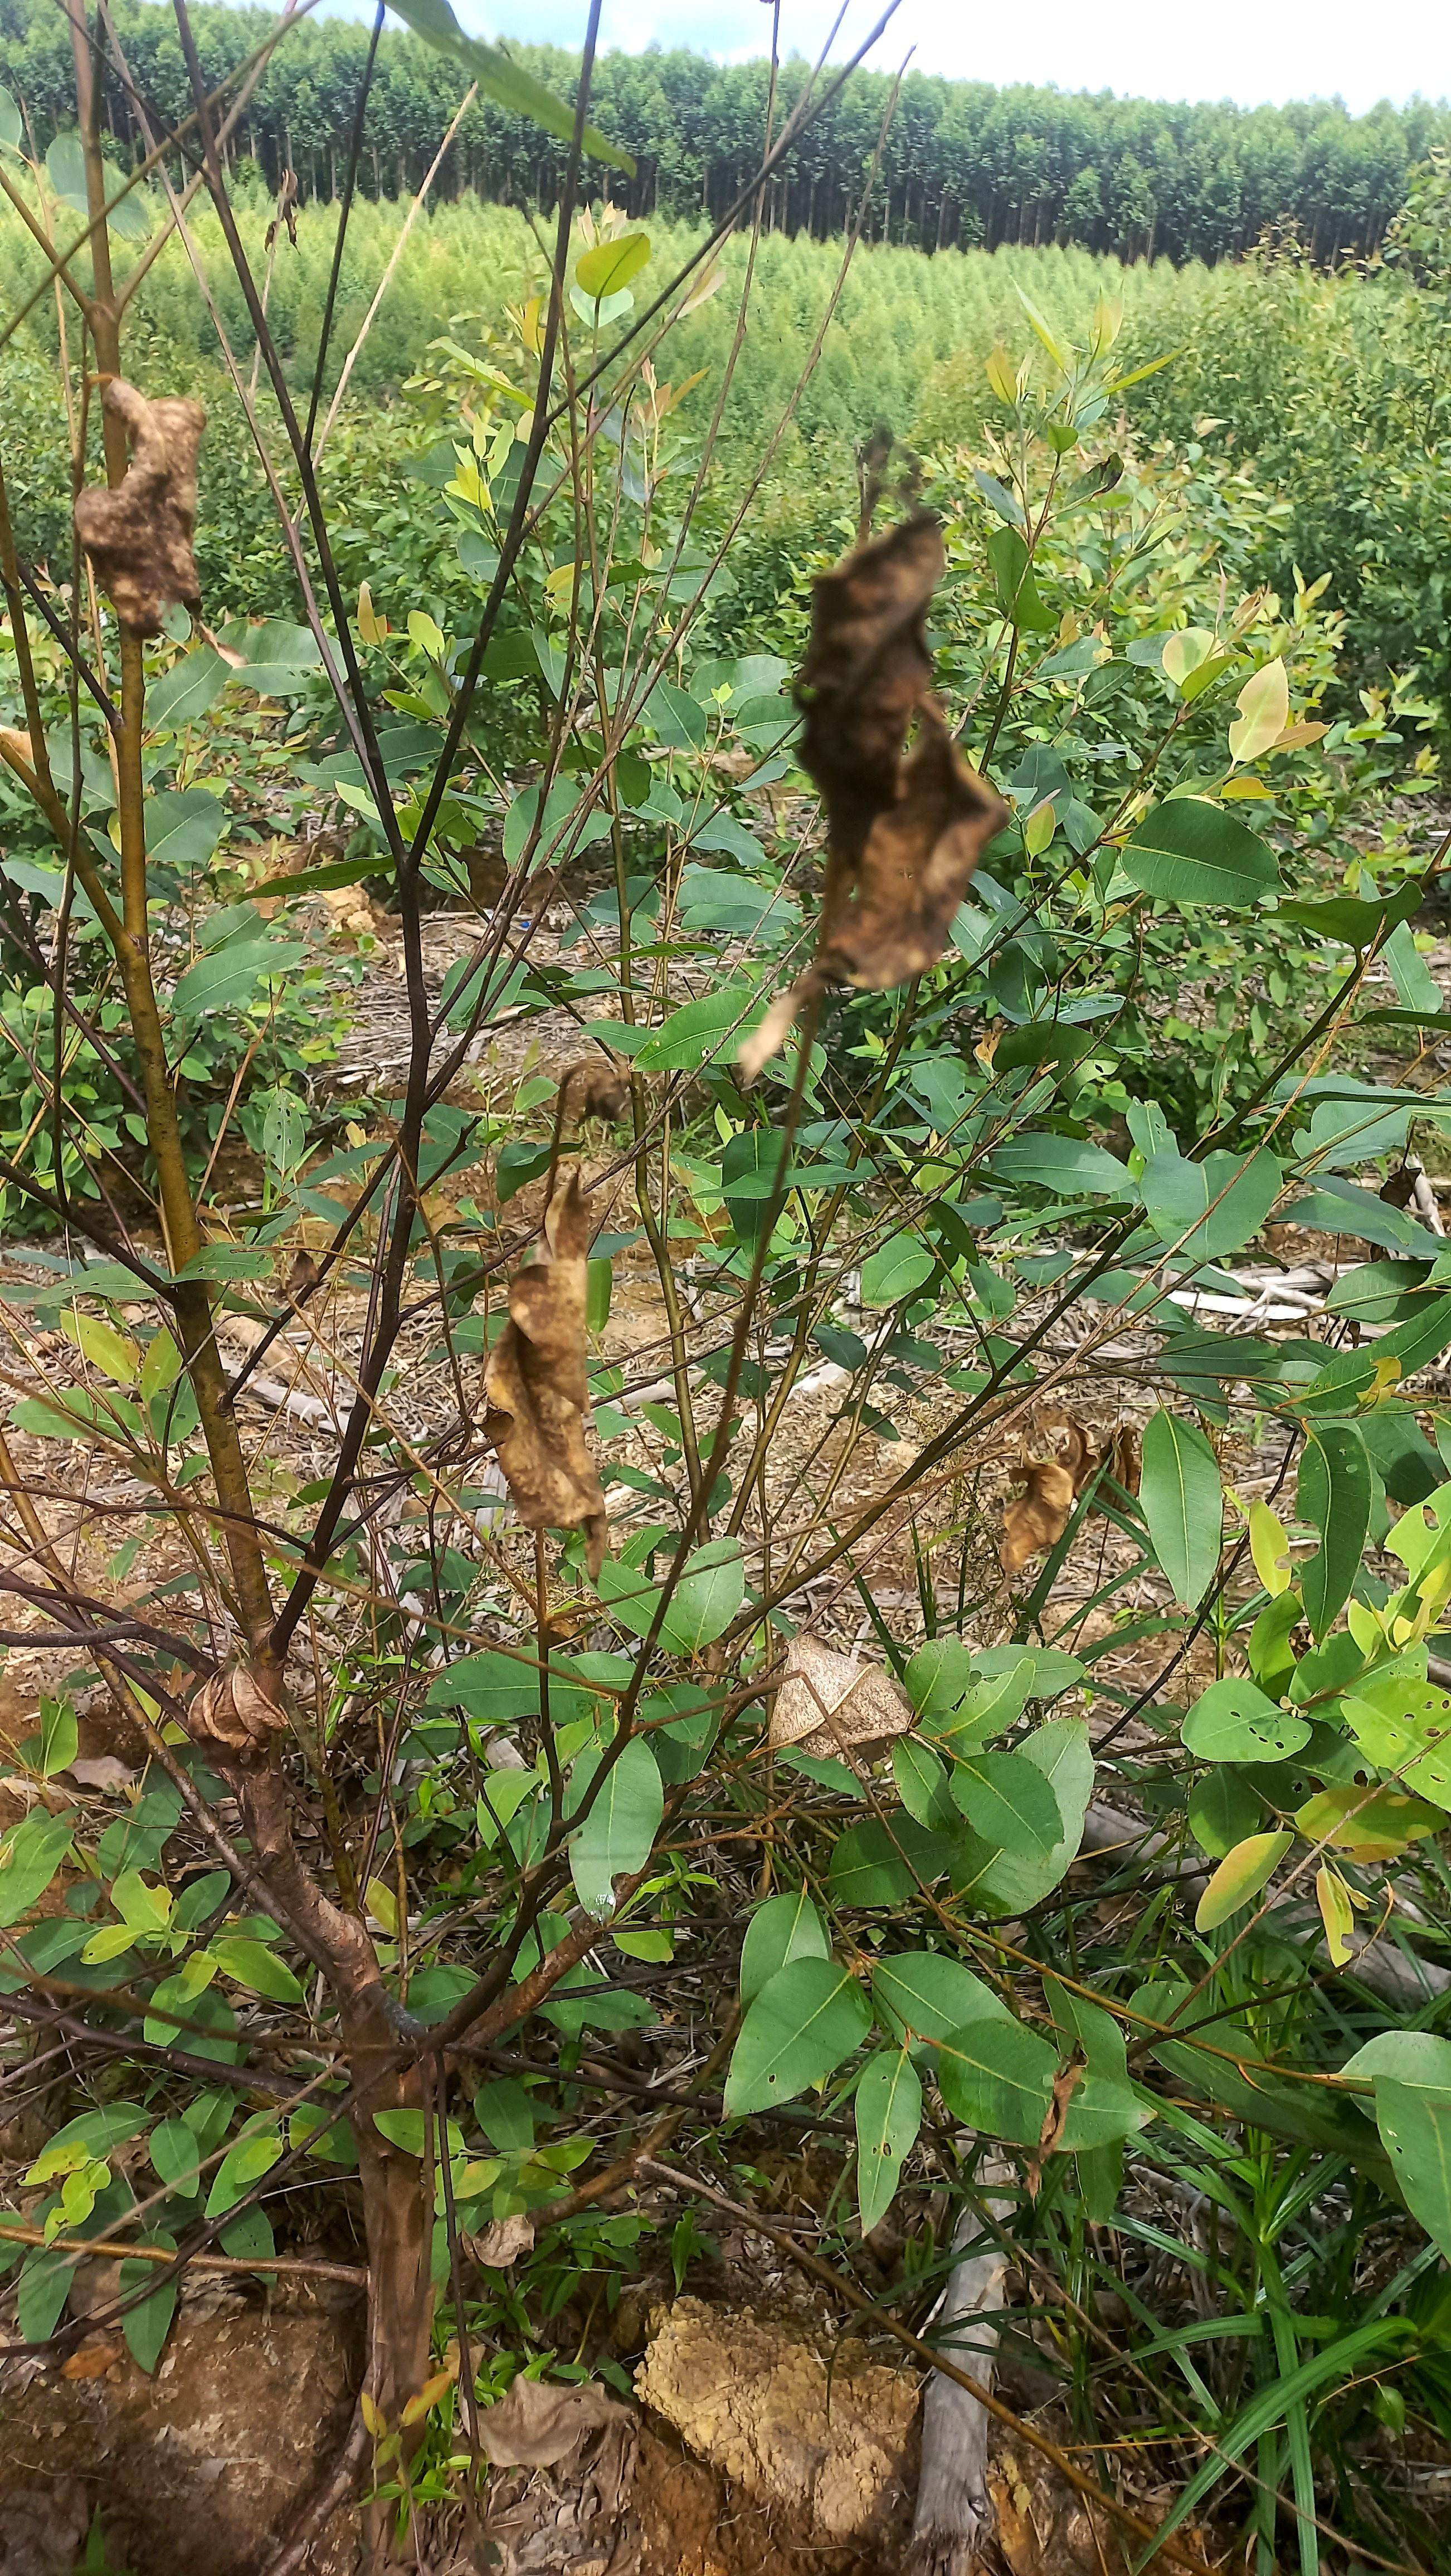Helopeltis-Withered Sprout: (787, 487, 1000, 998), (19, 361, 241, 663), (460, 1203, 614, 1560), (979, 1440, 1094, 1612)
